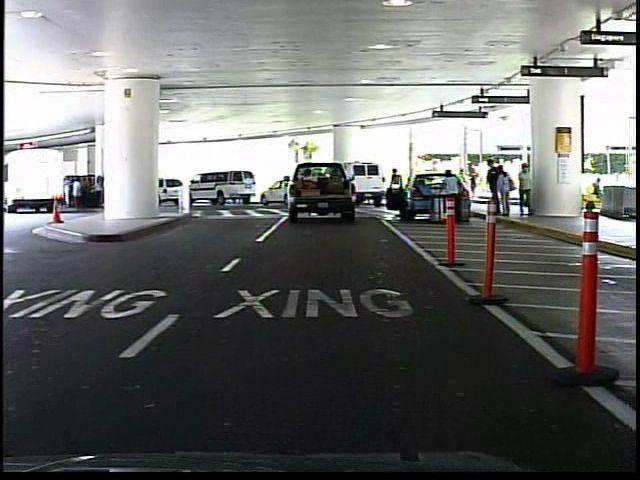person: (438, 163, 463, 225), (512, 159, 534, 216), (387, 165, 406, 211)
